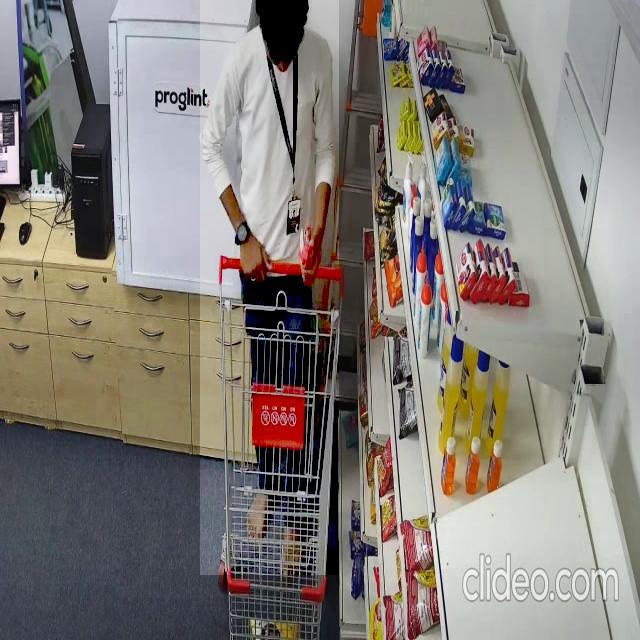normal: (200, 0, 339, 575)
